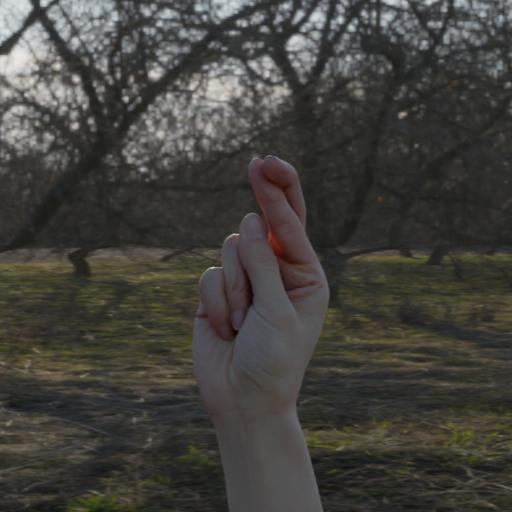R: (166, 144, 362, 402)
